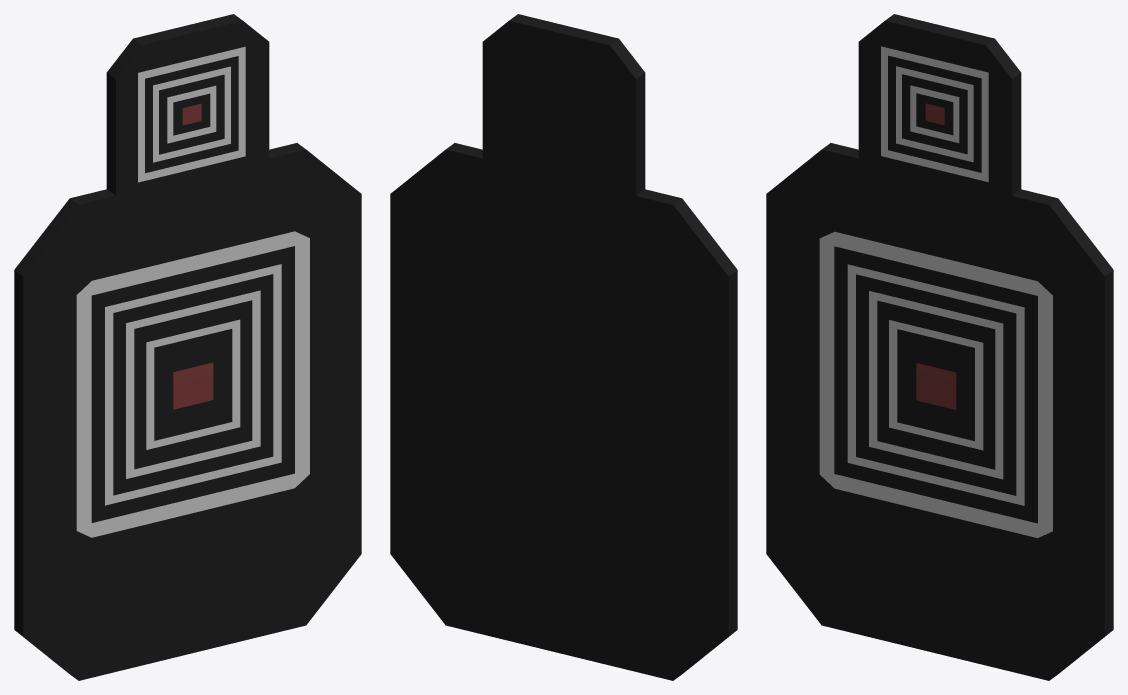
Rendered from ShootingTarget_02.fbx.
3 renders of one model, left to right at view 1: azimuth 30°, elevation 25°; view 2: azimuth 150°, elevation 25°; view 3: azimuth 330°, elevation 25°, orthographic.
Visible parts, largest first — view 1: ShootingTarget_02; view 2: ShootingTarget_02; view 3: ShootingTarget_02.
Boxes of the visible parts, <box> form: ShootingTarget_02: <box>14,14,361,680</box>; ShootingTarget_02: <box>390,14,737,680</box>; ShootingTarget_02: <box>766,14,1113,680</box>.
Bounding box in the file's own units: 61.83 × 108 × 2.88.
